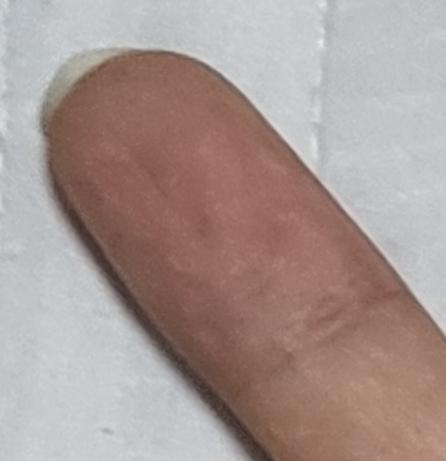Fingerprints: (49, 49, 412, 401)
